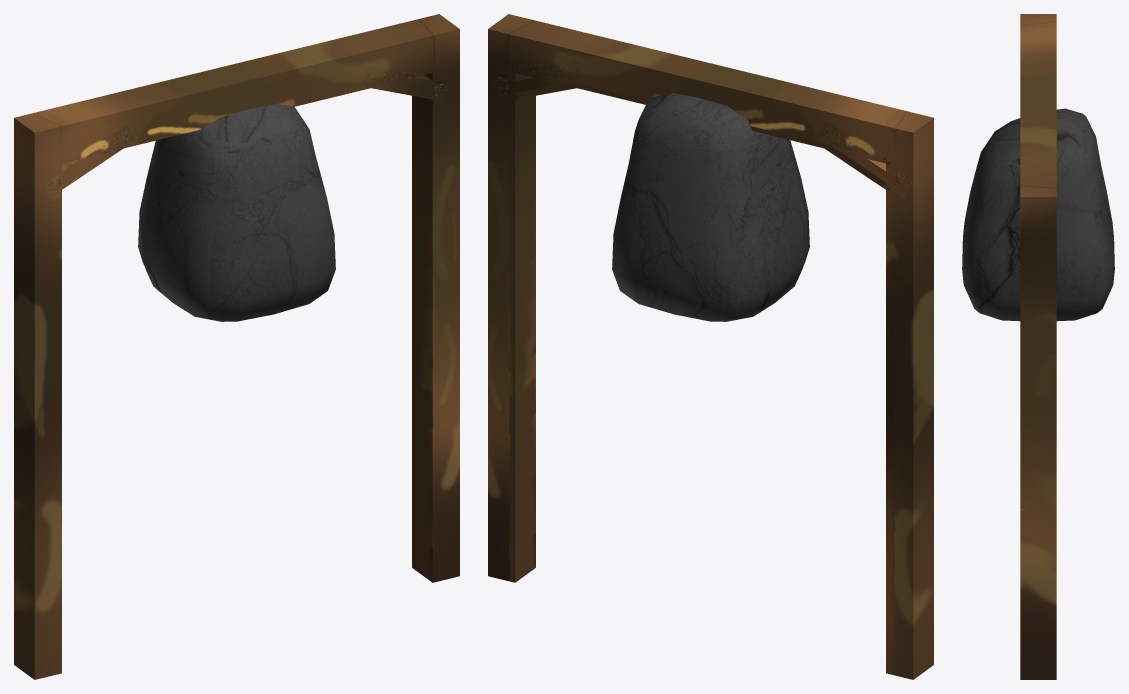
The model's file is CavernaAssets.fbx.
3 views of the same model, side by side, from view 1: azimuth 30°, elevation 25°; view 2: azimuth 150°, elevation 25°; view 3: azimuth 270°, elevation 25° (orthographic). The views are drawn at different scales.
Visible parts, largest first — view 1: Cube, Pedra, Pedra.003; view 2: Cube, Pedra, Pedra.003; view 3: Cube, Pedra, Pedra.003.
Part boxes in pixels (<box>): Cube: <box>14,14,459,679</box>; Pedra: <box>138,104,335,321</box>; Pedra.003: <box>204,114,305,153</box>; Cube: <box>488,14,933,679</box>; Pedra: <box>612,93,809,321</box>; Pedra.003: <box>642,107,757,147</box>; Cube: <box>1020,14,1056,679</box>; Pedra: <box>962,108,1114,321</box>; Pedra.003: <box>988,112,1089,173</box>.
Size of the model in its own units: 553 by 680 by 195.
